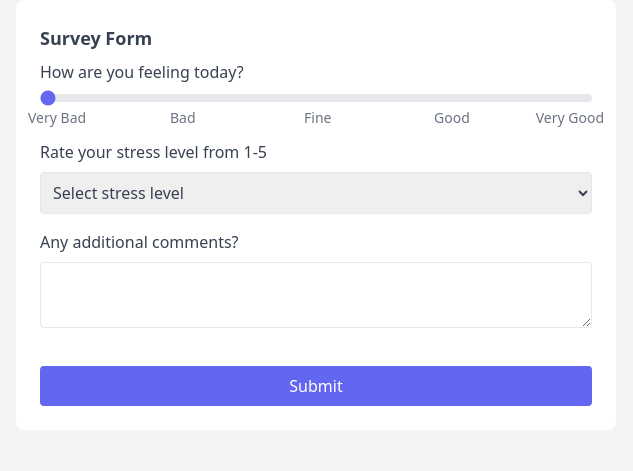
Test: SurveyForm Component › should submit form successfully if all fields are filled
Set the slider labelled "How are you feeling today?" to "3" at (450, 98), box x1=40 y1=94 x2=592 y2=102
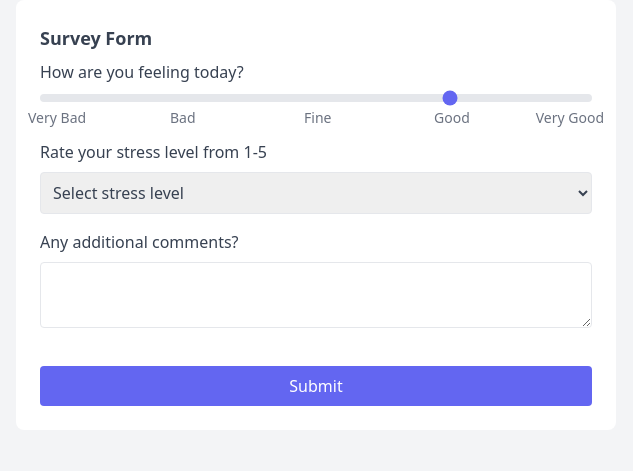
Select "3 - Moderate" in the dropdown labelled "Rate your stress level from 1-5" at (316, 193), box x1=40 y1=172 x2=592 y2=214
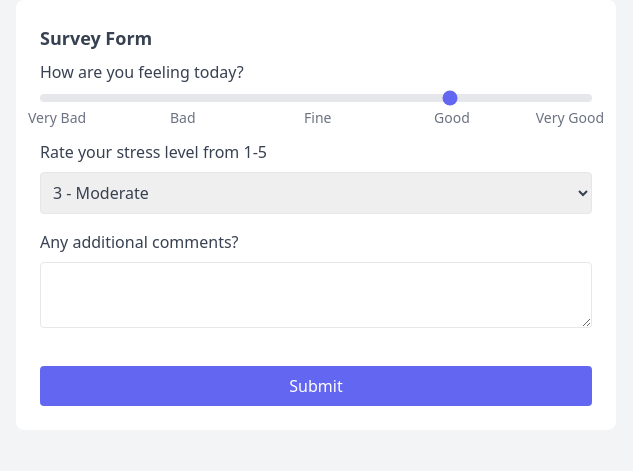
Type "No comments" into the text box labelled "Any additional comments?" at (316, 295), box x1=40 y1=262 x2=592 y2=328
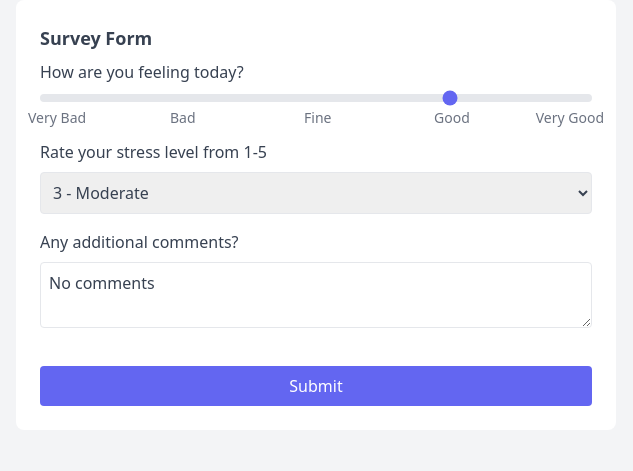
Click the button "Submit" at (316, 386), box x1=40 y1=366 x2=592 y2=406
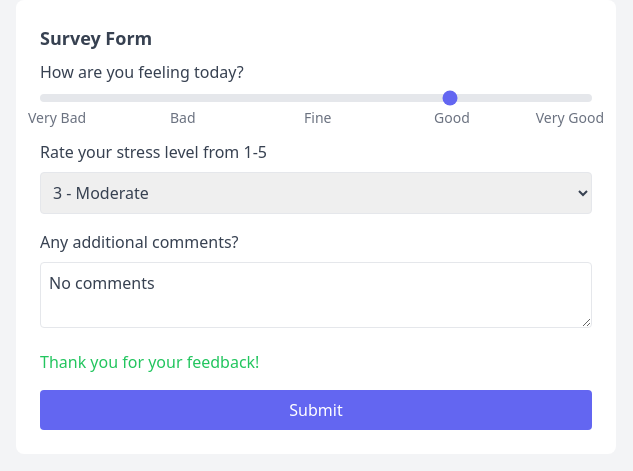
Now the text "Thank you for your feedback!" is shown, box x1=40 y1=351 x2=259 y2=373
